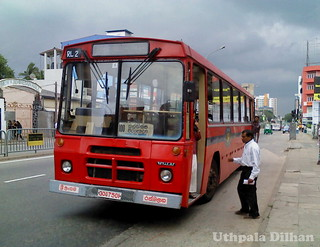bus: (48, 37, 256, 214)
